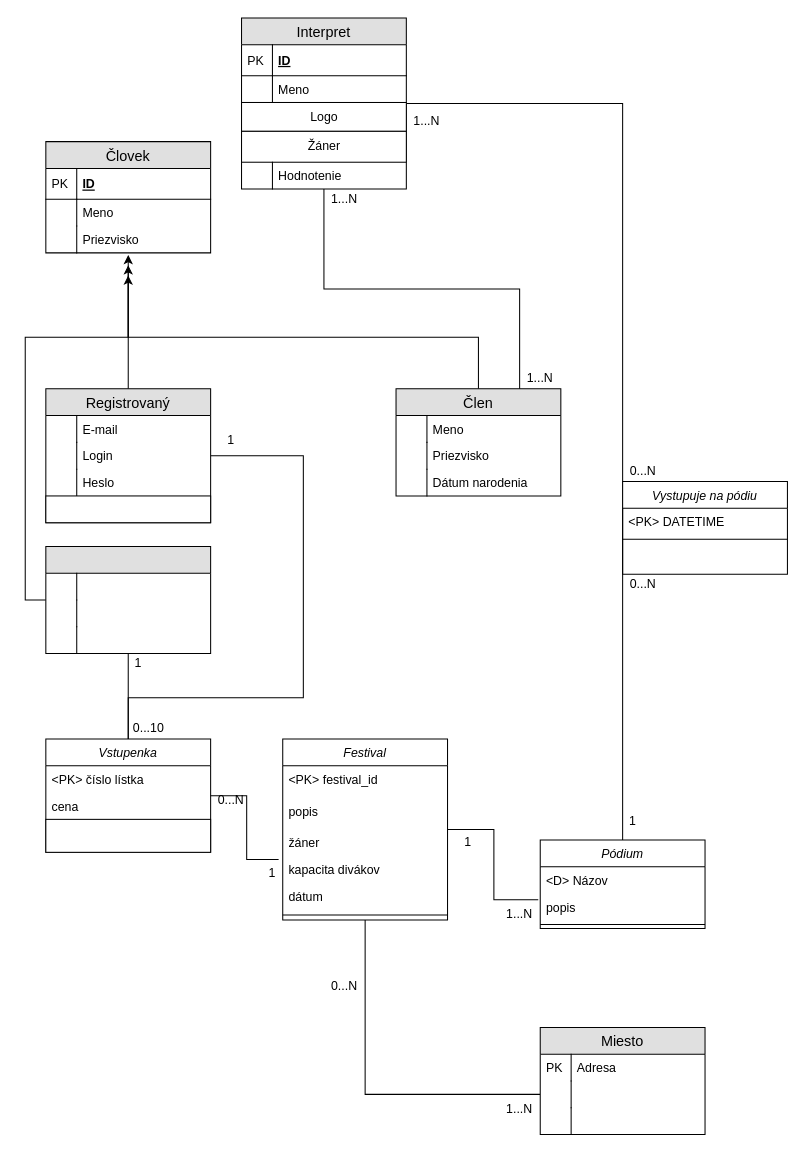
This 805x1153 diagram has some shape labels left out. The centre of each missing label's shape, as x and y in pixels:
"Level oprávnenia" belongs at point 128,509.
"Neregistrovaný" belongs at point 128,599.
"stav" belongs at point 128,835.
